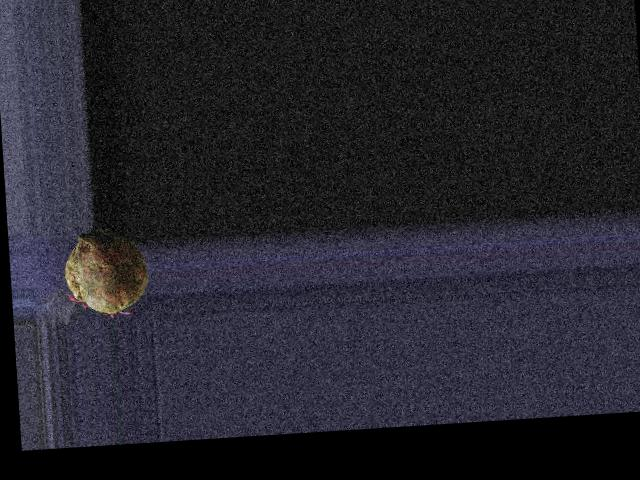beet: (62, 226, 149, 319)
